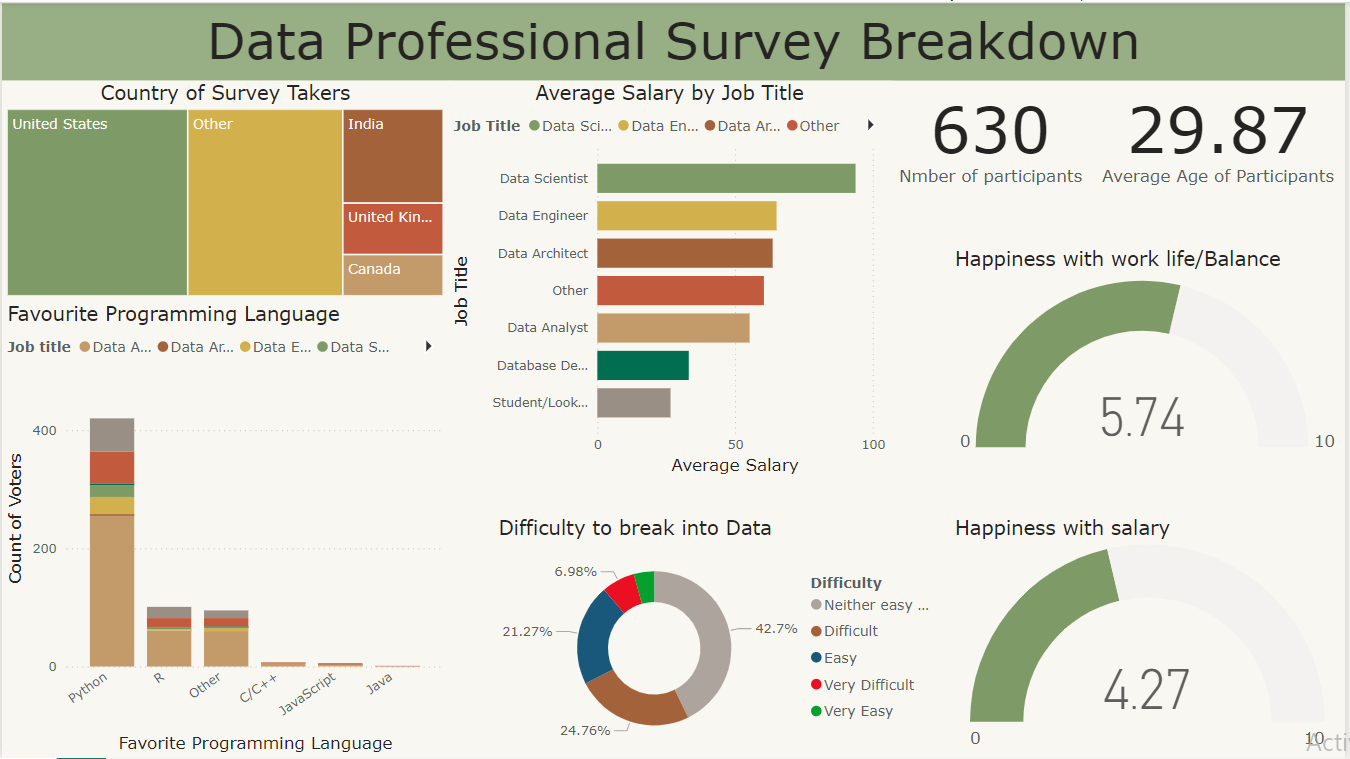

Layout of this report page (visuals, bound fields, positions):
{"tool":"powerbi","page":{"name":"Page 1","canvas":[1280,720],"ordinal":0},"visuals":[{"type":"textbox","box":[0,1.2,1279.8,73.8],"z":0},{"type":"card","fields":{"Values":["CountNonNull(Data Professional Survey.Unique ID)"]},"box":[846.4,75,190.5,106],"z":1},{"type":"card","fields":{"Values":["Avg(Data Professional Survey.Q10 - Current Age)"]},"box":[1036.9,75,242.9,106],"z":2},{"type":"barChart","title":" Average Salary by Job Title","fields":{"Y":["Avg(Data Professional Survey.Average Salary)"],"Category":["Data Professional Survey.Q1 - Which Title Best Fits your Current Role?.1"],"Series":["Data Professional Survey.Q1 - Which Title Best Fits your Current Role?.1"]},"box":[425,75,421.4,379.8],"z":3},{"type":"columnChart","title":"Favourite Programming Language","fields":{"Category":["Data Professional Survey.Q5 - Favorite Programming Language.1"],"Y":["CountNonNull(Data Professional Survey.Unique ID)"],"Series":["Data Professional Survey.Q1 - Which Title Best Fits your Current Role?.1"]},"box":[0,285.9,425.9,434.3],"z":4},{"type":"treemap","title":"Country of Survey Takers","fields":{"Group":["Data Professional Survey.Q11 - Which Country do you live in?.1"],"Values":["CountNonNull(Data Professional Survey.Unique ID)"]},"box":[0,75.5,425.4,209.9],"z":5},{"type":"gauge","title":"Happiness with work life/Balance","fields":{"Y":["Avg(Data Professional Survey.Q6 - How Happy are you in your Current Position with the following? (Work/Life Balance))"],"MinValue":["Min(Data Professional Survey.Q6 - How Happy are you in your Current Position with the following? (Work/Life Balance))1"],"MaxValue":["Max(Data Professional Survey.Q6 - How Happy are you in your Current Position with the following? (Work/Life Balance))2"]},"box":[902.9,233.3,377.4,205.8],"z":6},{"type":"gauge","title":"Happiness with salary","fields":{"Y":["Avg(Data Professional Survey.Q6 - How Happy are you in your Current Position with the following? (Salary))"],"MinValue":["Min(Data Professional Survey.Q6 - How Happy are you in your Current Position with the following? (Salary))1"],"MaxValue":["Max(Data Professional Survey.Q6 - How Happy are you in your Current Position with the following? (Salary))2"]},"box":[902.9,489.9,377.4,230.5],"z":7},{"type":"donutChart","title":"Difficulty to break into Data","fields":{"Category":["Data Professional Survey.Q7 - How difficult was it for you to break into Data?"],"Y":["CountNonNull(Data Professional Survey.Q7 - How difficult was it for you to break into Data?)"]},"box":[467.9,489.9,435,230.5],"z":8}]}

Visuals, with their boxes in screenshot pixels (x1, y1, x2, y2), scaled from the page's 1280x720 canvas onto the 1350x759 screenshot:
textbox: (0,1,1349,79)
card - CountNonNull(Data Professional Survey.Unique ID): (893,79,1094,191)
card - Avg(Data Professional Survey.Q10 - Current Age): (1094,79,1349,191)
" Average Salary by Job Title" barChart: (448,79,893,479)
"Favourite Programming Language" columnChart: (0,301,449,758)
"Country of Survey Takers" treemap: (0,80,449,301)
"Happiness with work life/Balance" gauge: (952,246,1349,463)
"Happiness with salary" gauge: (952,516,1349,758)
"Difficulty to break into Data" donutChart: (493,516,952,758)
